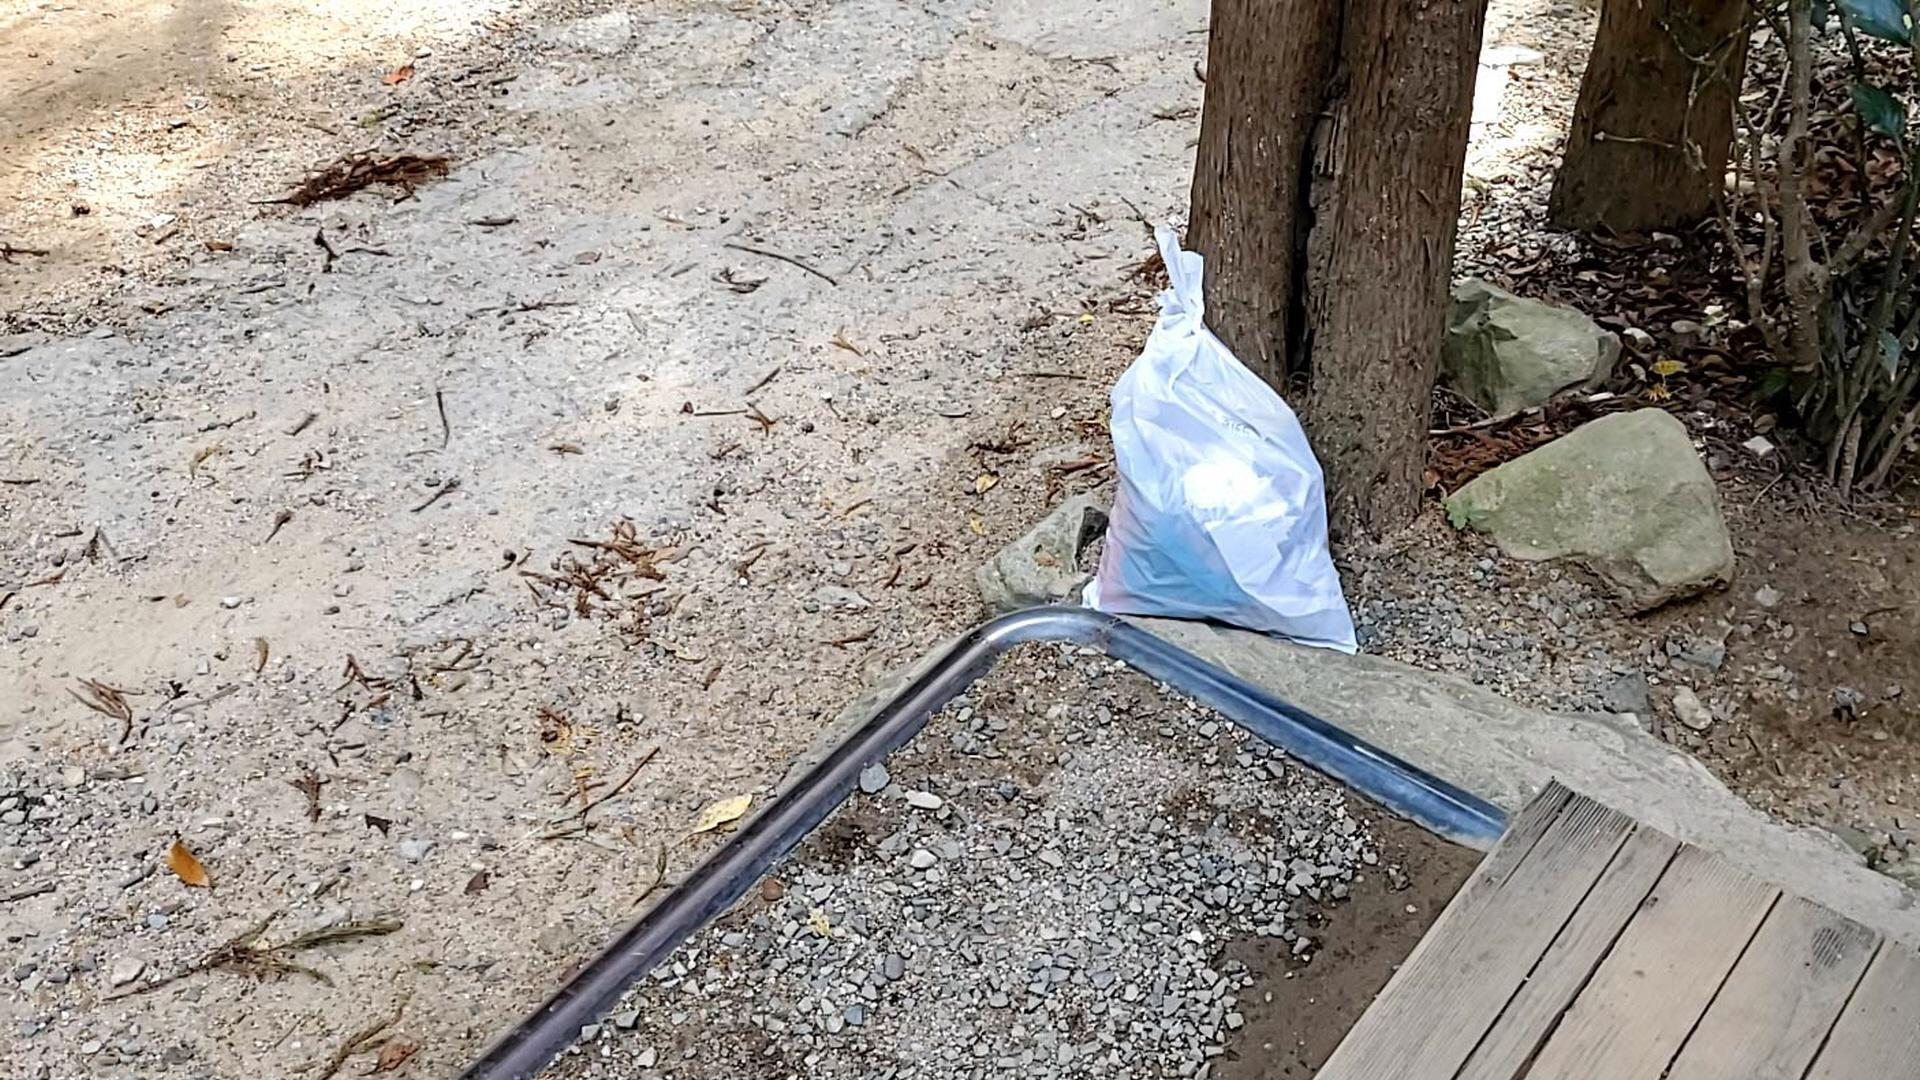white_bag: (1050, 214, 1375, 665)
